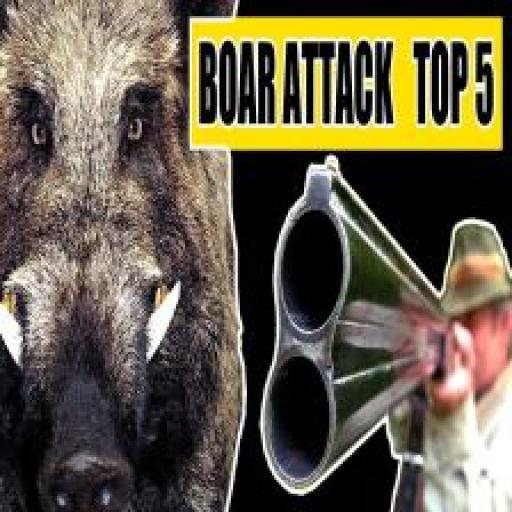Pig: (0, 0, 245, 512)
